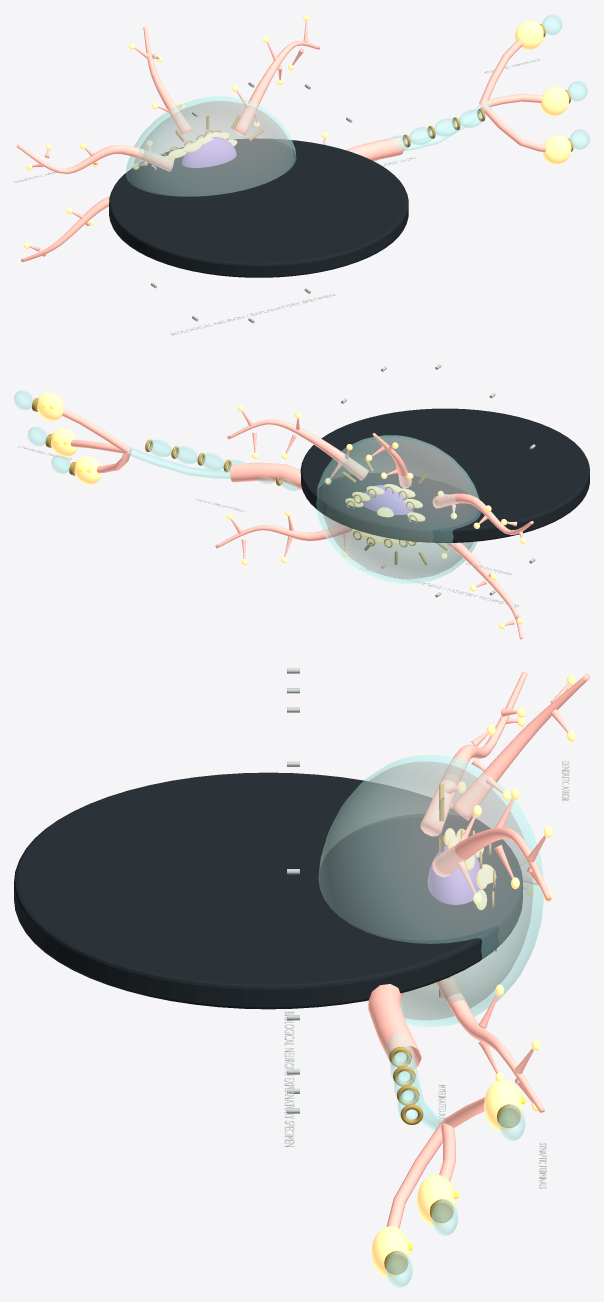
Rendered from history-neuron-v003.glb.
The picture shows the model from 3 angles, top to bottom: view 1: azimuth 30°, elevation 25°; view 2: azimuth 150°, elevation 25°; view 3: azimuth 270°, elevation 25°; orthographic projection. The views are drawn at different scales.
Parts seen in each view (by area): view 1: GEO-specimen-base, GEO-soma-membrane, GEO-soma-cell-body, GEO-dendritic-primary, GEO-dendritic-primary.002, GEO-nucleus, GEO-dendritic-primary.004, GEO-axon-initial-segment, GEO-axon-core, GEO-dendritic-primary.001, GEO-presynaptic-bouton.001, GEO-presynaptic-bouton.002 (+4 smaller); view 2: GEO-specimen-base, GEO-soma-membrane, GEO-soma-cell-body, GEO-axon-initial-segment, GEO-dendritic-primary.002, GEO-axon-core, GEO-dendritic-primary.003, GEO-dendritic-primary, GEO-dendritic-primary.001, GEO-nucleus, GEO-presynaptic-bouton, GEO-terminal-branch-a (+4 smaller); view 3: GEO-specimen-base, GEO-soma-membrane, GEO-soma-cell-body, GEO-dendritic-primary.004, GEO-axon-initial-segment, GEO-dendritic-primary, GEO-dendritic-primary.002, GEO-dendritic-primary.003, GEO-nucleus, GEO-terminal-branch-c, GEO-presynaptic-bouton, GEO-presynaptic-bouton.002 (+2 smaller).
Boxes of the visible parts, x1=… form: GEO-specimen-base: x1=109, y1=138, x2=408, y2=277; GEO-soma-membrane: x1=126, y1=96, x2=295, y2=196; GEO-soma-cell-body: x1=132, y1=101, x2=292, y2=195; GEO-dendritic-primary: x1=17, y1=144, x2=173, y2=173; GEO-dendritic-primary.002: x1=234, y1=41, x2=319, y2=136; GEO-nucleus: x1=182, y1=137, x2=236, y2=167; GEO-dendritic-primary.004: x1=143, y1=27, x2=192, y2=135; GEO-axon-initial-segment: x1=345, y1=137, x2=404, y2=160; GEO-axon-core: x1=404, y1=100, x2=491, y2=151; GEO-dendritic-primary.001: x1=21, y1=196, x2=109, y2=262; GEO-presynaptic-bouton.001: x1=540, y1=86, x2=568, y2=116; GEO-presynaptic-bouton.002: x1=542, y1=135, x2=571, y2=164; GEO-specimen-base: x1=300, y1=408, x2=589, y2=542; GEO-soma-membrane: x1=316, y1=435, x2=480, y2=583; GEO-soma-cell-body: x1=323, y1=438, x2=478, y2=578; GEO-axon-initial-segment: x1=230, y1=462, x2=302, y2=489; GEO-dendritic-primary.002: x1=227, y1=419, x2=368, y2=480; GEO-axon-core: x1=127, y1=446, x2=230, y2=479; GEO-dendritic-primary.003: x1=215, y1=524, x2=352, y2=548; GEO-dendritic-primary: x1=432, y1=493, x2=533, y2=534; GEO-dendritic-primary.001: x1=445, y1=542, x2=522, y2=639; GEO-nucleus: x1=362, y1=485, x2=412, y2=514; GEO-presynaptic-bouton: x1=37, y1=392, x2=64, y2=420; GEO-terminal-branch-a: x1=62, y1=409, x2=129, y2=453; GEO-specimen-base: x1=14, y1=772, x2=522, y2=1009; GEO-soma-membrane: x1=318, y1=755, x2=543, y2=1026; GEO-soma-cell-body: x1=319, y1=762, x2=533, y2=1019; GEO-dendritic-primary.004: x1=452, y1=674, x2=589, y2=820; GEO-axon-initial-segment: x1=368, y1=984, x2=421, y2=1069; GEO-dendritic-primary: x1=420, y1=671, x2=527, y2=836; GEO-dendritic-primary.002: x1=432, y1=827, x2=551, y2=900; GEO-dendritic-primary.003: x1=436, y1=975, x2=544, y2=1112; GEO-nucleus: x1=427, y1=845, x2=482, y2=904; GEO-terminal-branch-c: x1=386, y1=1121, x2=442, y2=1228; GEO-presynaptic-bouton: x1=484, y1=1079, x2=522, y2=1131; GEO-presynaptic-bouton.002: x1=371, y1=1226, x2=410, y2=1278.
Bounding box in the file's own units: 9.9 × 4.13 × 5.32.
